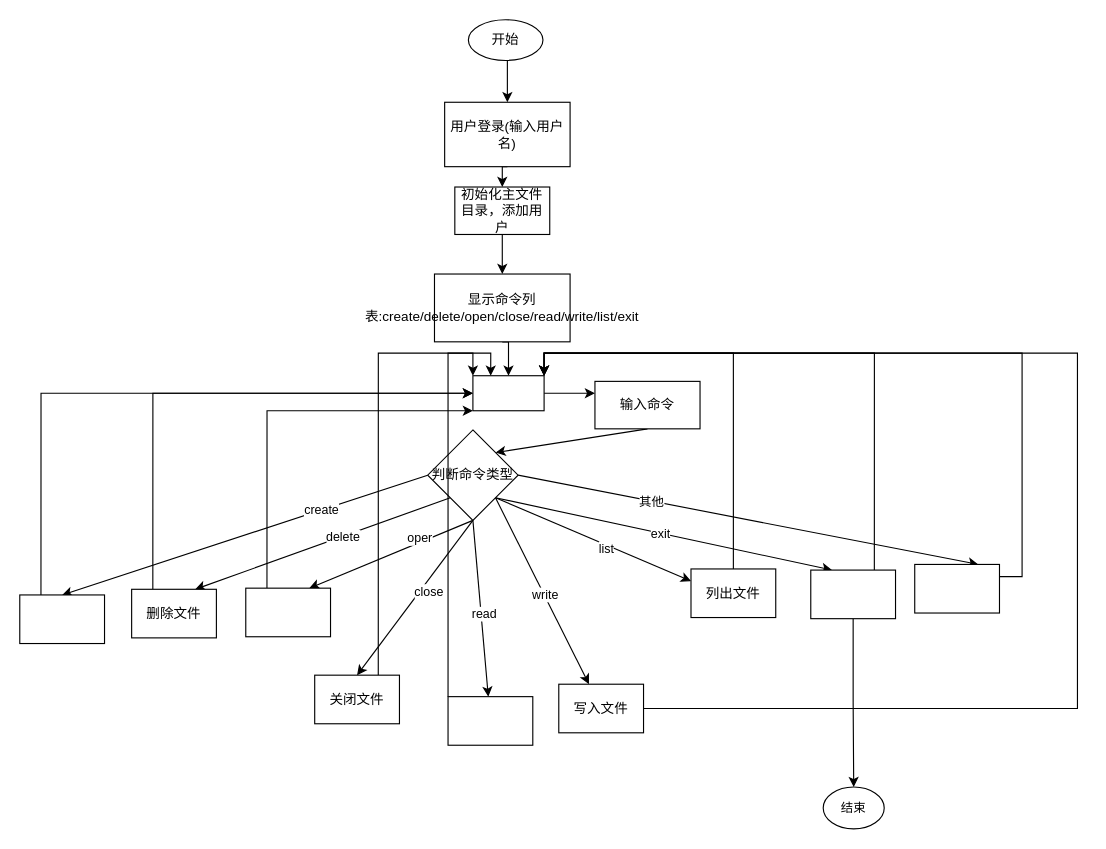
The diagram is 1106 pixels wide and 849 high, and some of its shapes have lost their labels. The shapes that lost their labels are listed below. From the top down, each one's centre as x and y in pixels, then its label:
At point (508, 393): "命令循环".
At point (853, 594): "结束程序".
At point (956, 588): "提示未知命令".
At point (62, 619): "创建文件".
At point (288, 612): "打开文件".
At point (490, 720): "读取文件".
